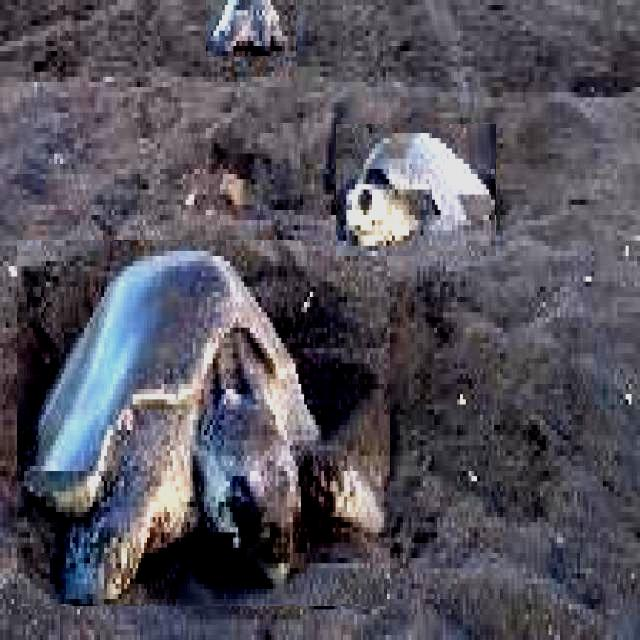Sea turtle: (17, 240, 390, 606), (336, 124, 496, 256), (206, 0, 296, 57)
